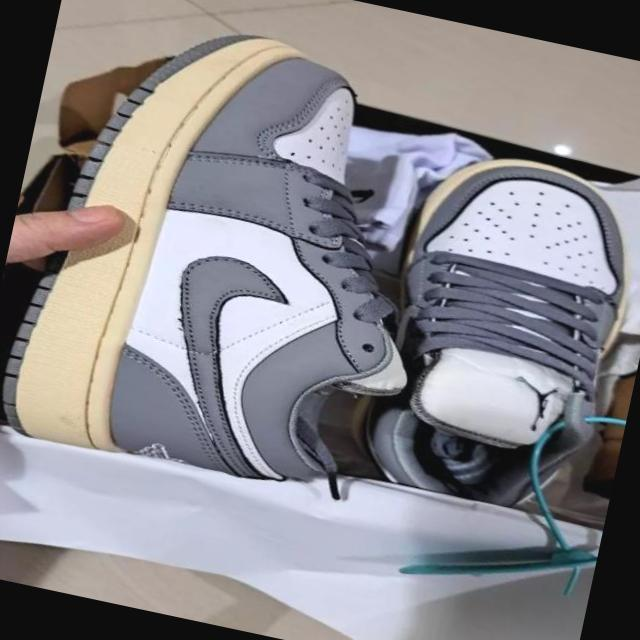nike_fake_jordan: (0, 0, 480, 516), (343, 133, 640, 533)
